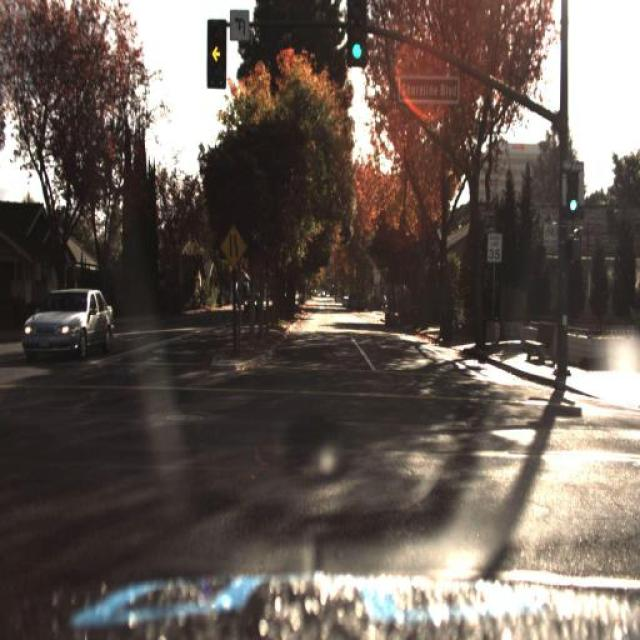car: (20, 284, 116, 368), (18, 287, 114, 357), (238, 292, 262, 318)
trafficLight-GreenLeft: (348, 0, 367, 64), (568, 168, 578, 212)
truck: (208, 22, 226, 88)
